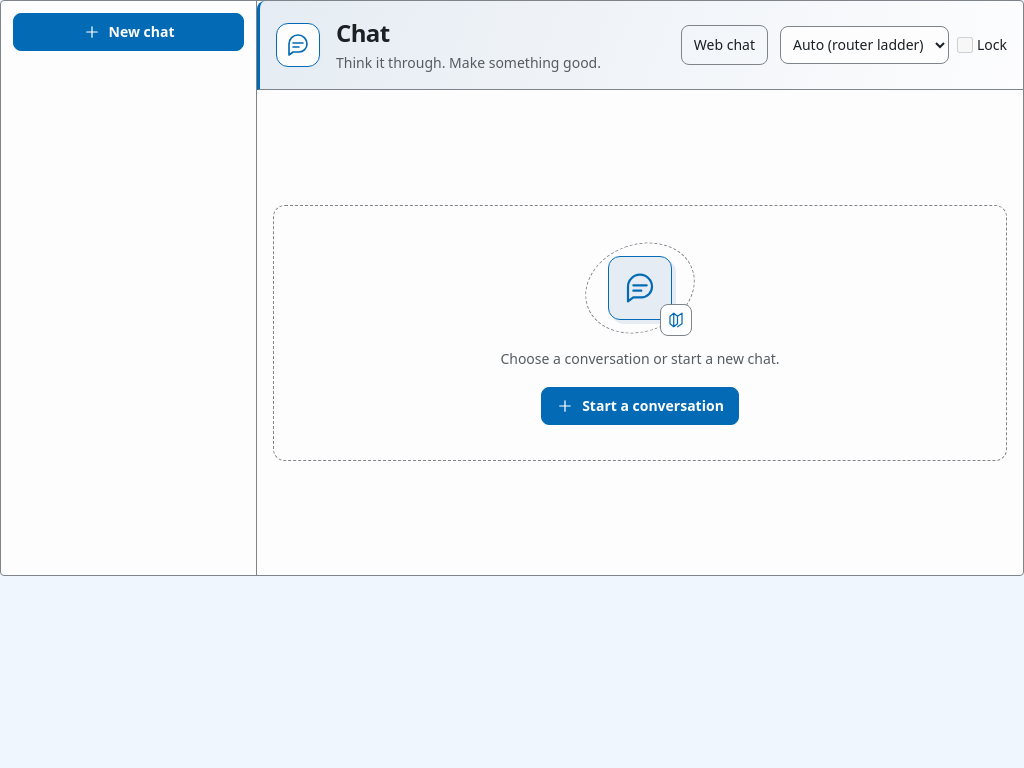
Test: ChatPage › sends and cancels with the active request id
Click the button "New chat": point(128, 32) [13, 13, 244, 51]
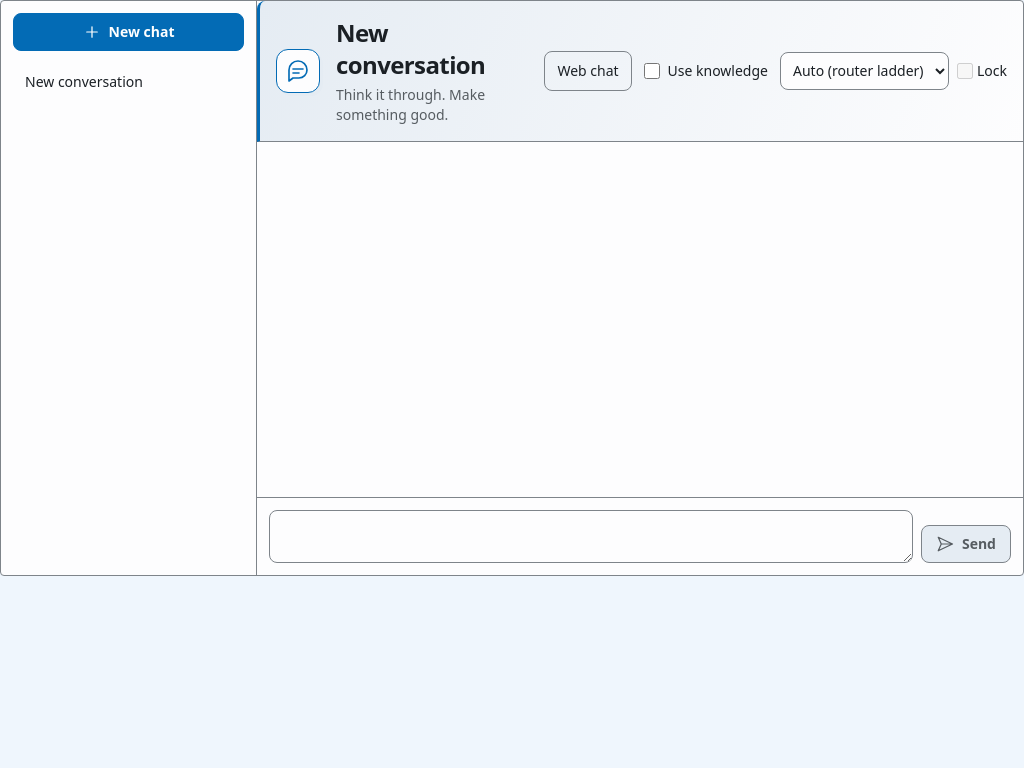
In the text box named "Message": point(591, 536) [269, 510, 913, 563], type "hello"
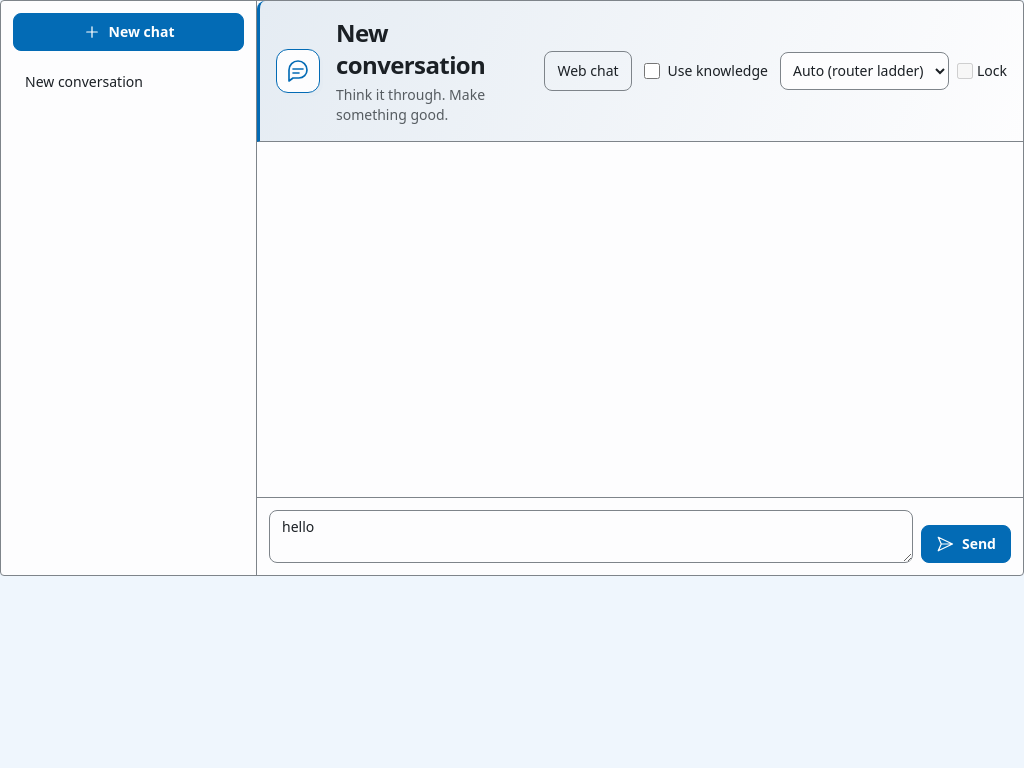
Click the button "Send": point(966, 544) [921, 525, 1011, 563]
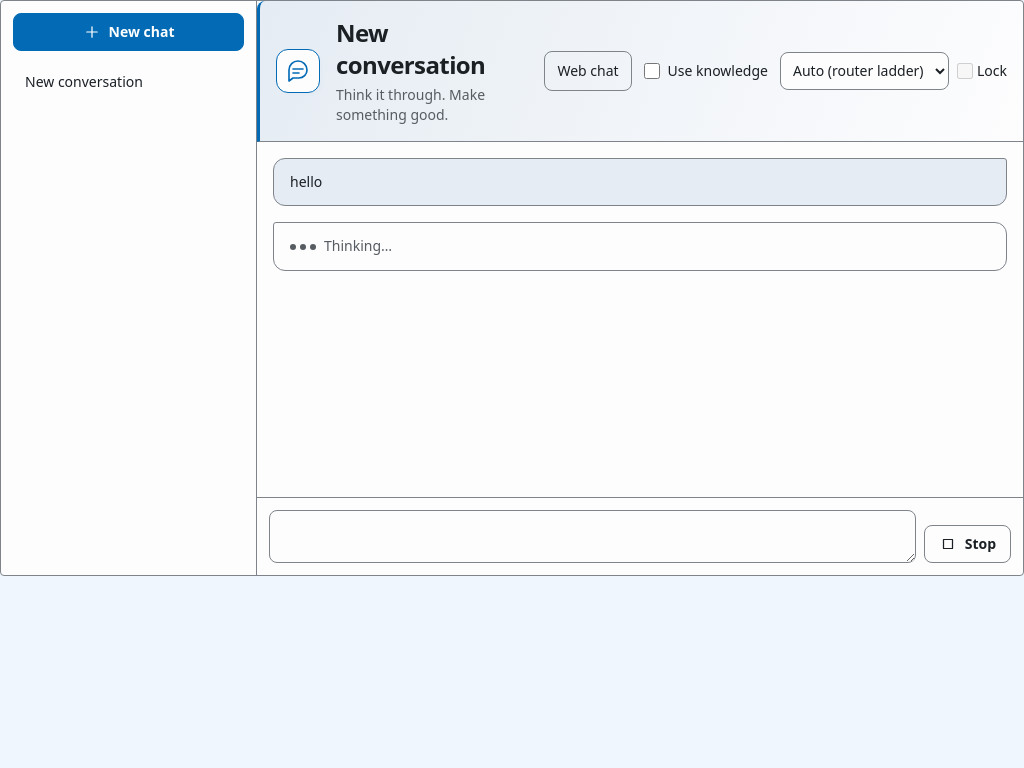
Check: the button "Stop" is shown
Check: the message reads "Thinking…", box [324, 236, 392, 255]
Click the button "Stop": point(967, 544) [924, 525, 1011, 563]
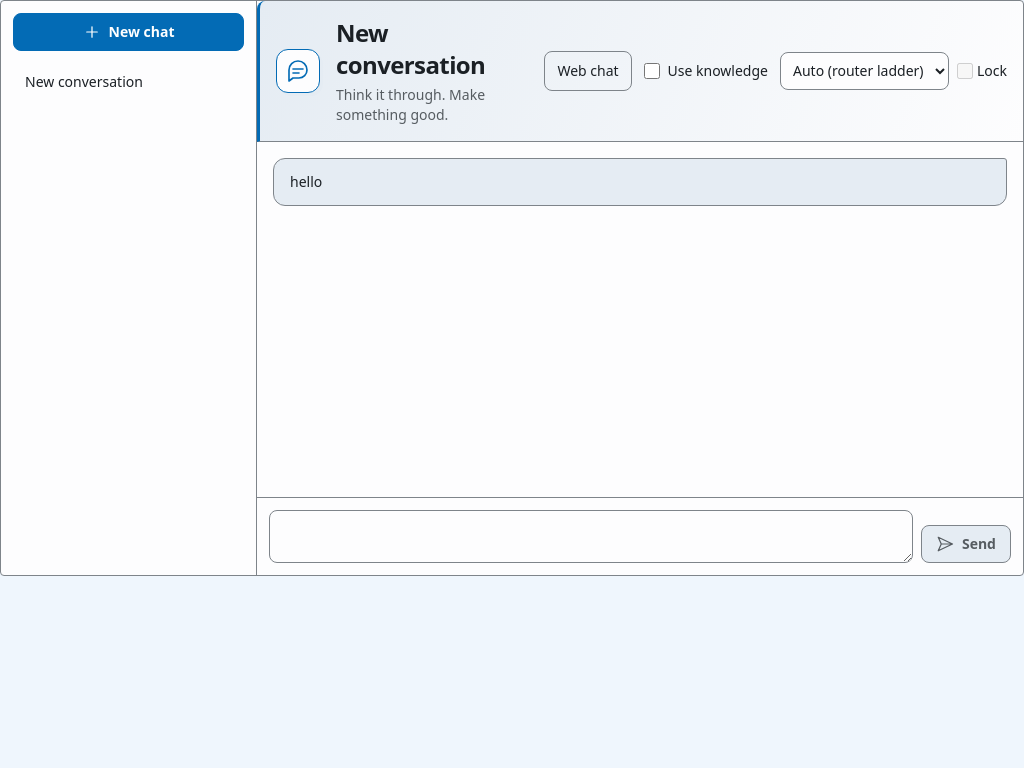
Check: the text "Thinking…" is gone
